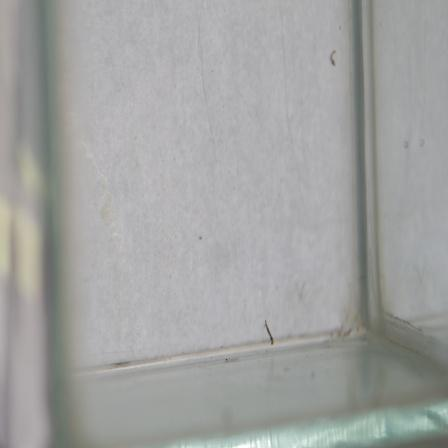Jentik-Nyamuk: (260, 315, 279, 347)
